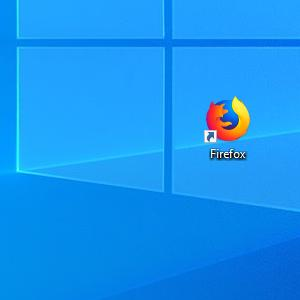firefox: (205, 95, 251, 143)
